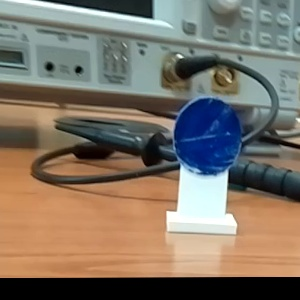circle: (152, 93, 252, 241)
